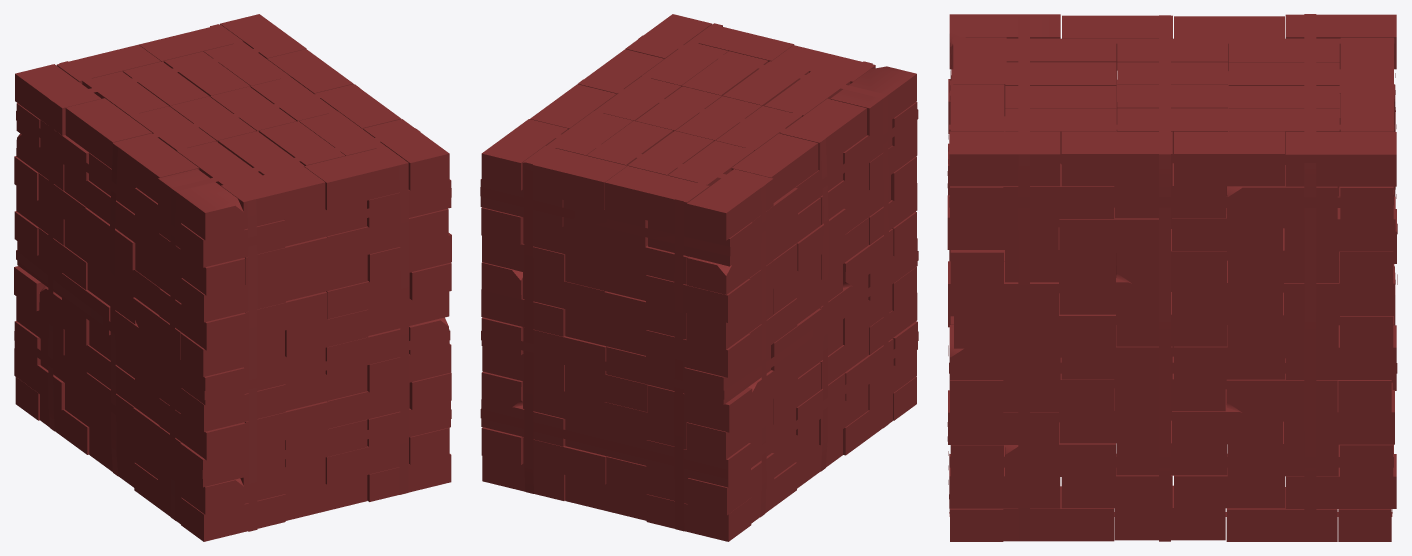
File: SM_BricksPack01.fbx
3 renders of one model, left to right at view 1: azimuth 30°, elevation 25°; view 2: azimuth 150°, elevation 25°; view 3: azimuth 270°, elevation 25°, orthographic. The views are drawn at different scales.
Visible parts, largest first — view 1: BricksPack01; view 2: BricksPack01; view 3: BricksPack01.
Part boxes in pixels (x1,y1,x2,y2): BricksPack01: (14, 14, 451, 541); BricksPack01: (480, 14, 918, 541); BricksPack01: (947, 14, 1397, 541).
Bounding box in the file's own units: 76.18 × 96.44 × 102.
